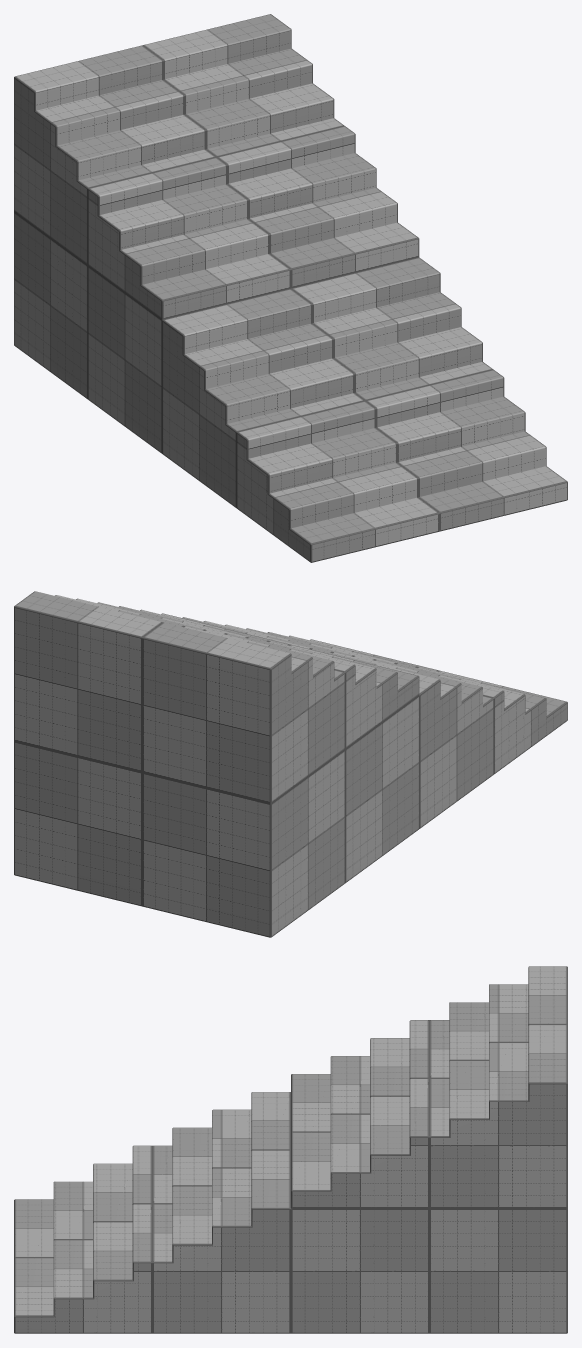
Rendered from Stairs2x2x4.fbx.
The picture shows the model from 3 angles, top to bottom: view 1: azimuth 30°, elevation 25°; view 2: azimuth 150°, elevation 25°; view 3: azimuth 270°, elevation 25°; orthographic projection. The views are drawn at different scales.
Visible parts, largest first — view 1: Stairs2x2x4; view 2: Stairs2x2x4; view 3: Stairs2x2x4.
Part boxes in pixels (x1,y1,x2,y2): Stairs2x2x4: (14,14,567,562); Stairs2x2x4: (14,591,567,937); Stairs2x2x4: (14,966,567,1333).
Size of the model in its own units: 200 by 200 by 400.
